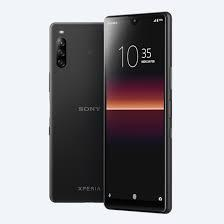Smartphone: (104, 11, 171, 209), (52, 22, 105, 206)
